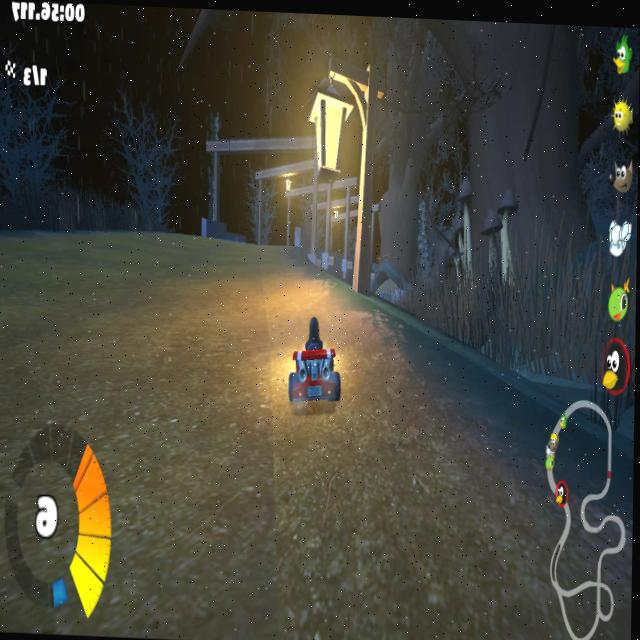player_kart: (283, 312, 351, 418)
track: (276, 467, 615, 640), (0, 429, 277, 639), (0, 316, 281, 441), (0, 227, 178, 320), (352, 390, 524, 470), (182, 238, 300, 328), (353, 336, 435, 387), (274, 424, 347, 463), (298, 277, 339, 307)
